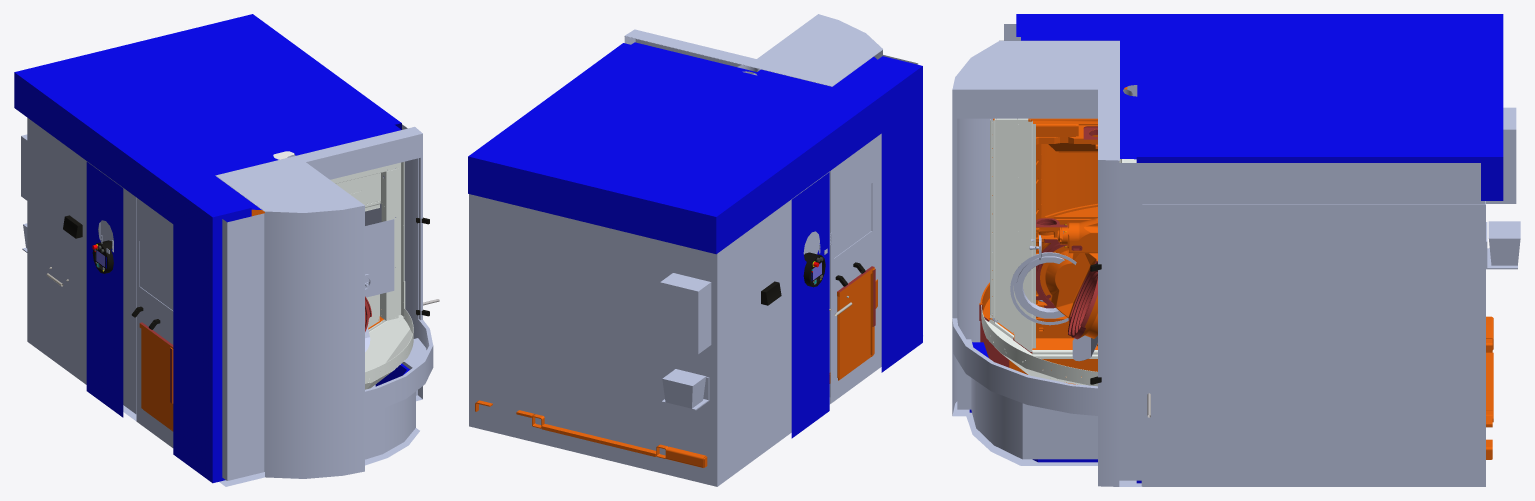
File: G350_small.glb
The picture shows the model from 3 angles, left to right: view 1: azimuth 30°, elevation 25°; view 2: azimuth 150°, elevation 25°; view 3: azimuth 270°, elevation 25°; orthographic projection. The views are drawn at different scales.
Visible parts, largest first — view 1: 006416-1 - Teil, 006416-1 - Teil 2, G350-innengestell.sldasm-Part-1-1-solid1 - Teil, 006416-1 - Teil 3; view 2: 006416-1 - Teil, 006416-1 - Teil 2, G350-innengestell.sldasm-Part-1-1-solid1 - Teil, 006416-1 - Teil 3; view 3: 006416-1 - Teil, 006416-1 - Teil 2, G350-innengestell.sldasm-Part-1-1-solid1 - Teil.
Part boxes in pixels (x1,y1,x2,y2): 006416-1 - Teil: (21,118,433,486); 006416-1 - Teil 2: (14,14,409,483); G350-innengestell.sldasm-Part-1-1-solid1 - Teil: (139,161,413,431); 006416-1 - Teil 3: (63,215,429,329); 006416-1 - Teil: (469,14,923,486); 006416-1 - Teil 2: (468,42,922,438); G350-innengestell.sldasm-Part-1-1-solid1 - Teil: (475,266,877,467); 006416-1 - Teil 3: (761,252,865,305); 006416-1 - Teil: (952,24,1520,486); 006416-1 - Teil 2: (969,14,1503,483); G350-innengestell.sldasm-Part-1-1-solid1 - Teil: (979,87,1493,459).
Bounding box in the file's own units: 108068 × 85196 × 134374.
12 materials, 6 textured.
